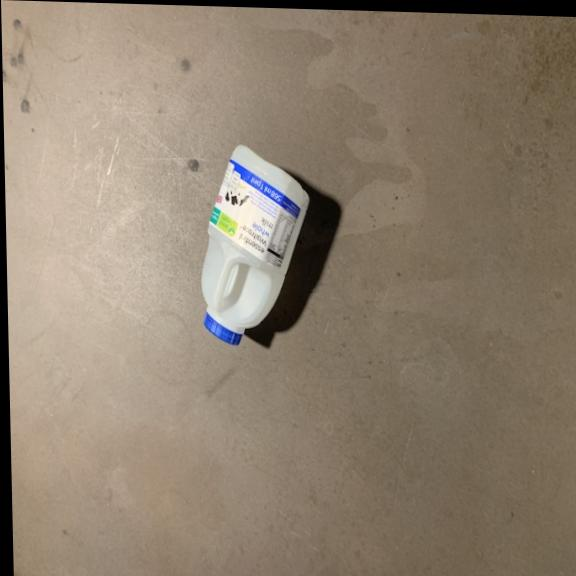Plastik: (192, 140, 310, 349)
